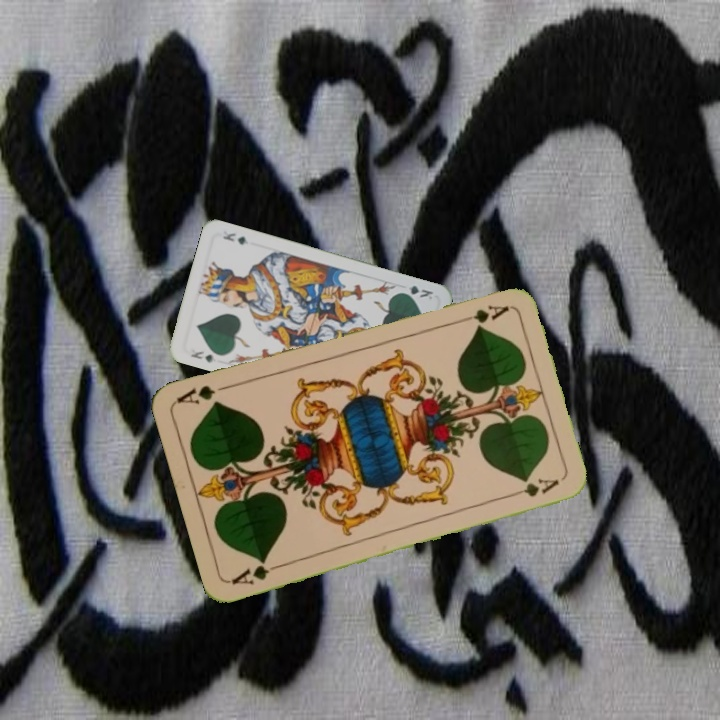GA: (227, 555, 285, 588), (453, 301, 512, 328)
GK: (396, 281, 436, 303), (186, 347, 215, 365)
